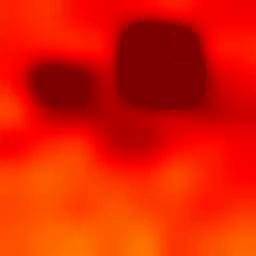person: (35, 31, 199, 108)
